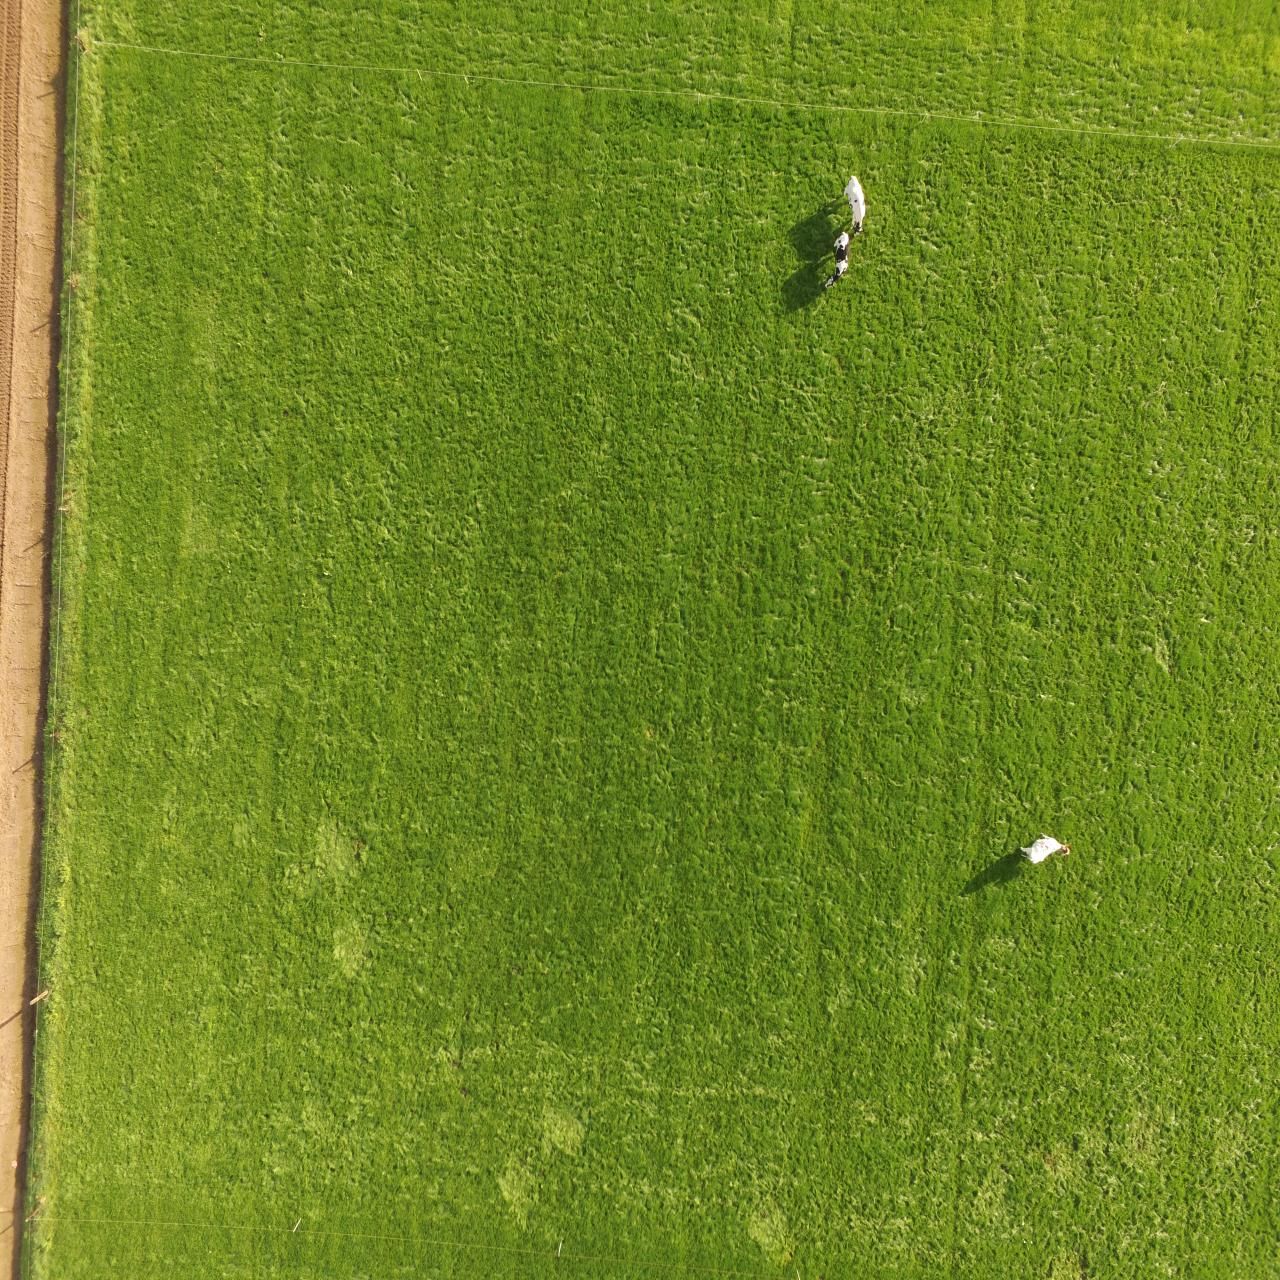cow: (1019, 830, 1073, 865), (842, 172, 866, 238), (824, 230, 851, 288)
